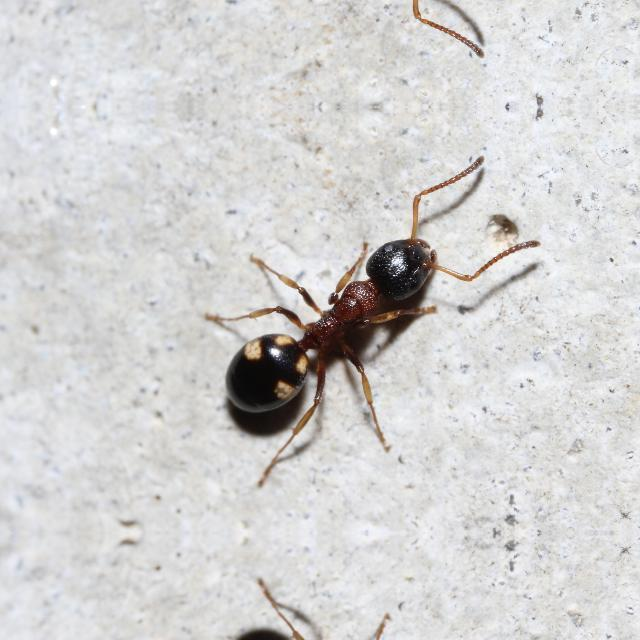Dolichoderus: (188, 191, 484, 445)
